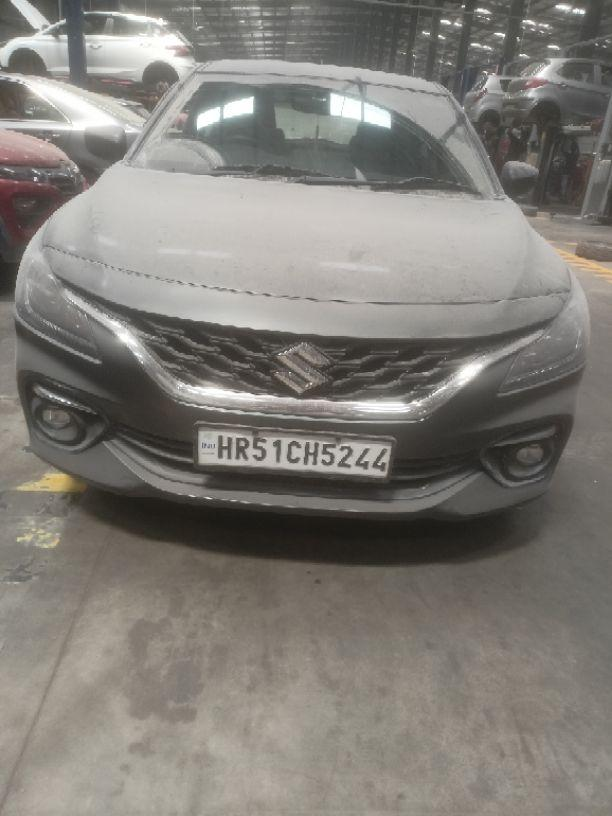license_plate: (191, 422, 396, 484)
